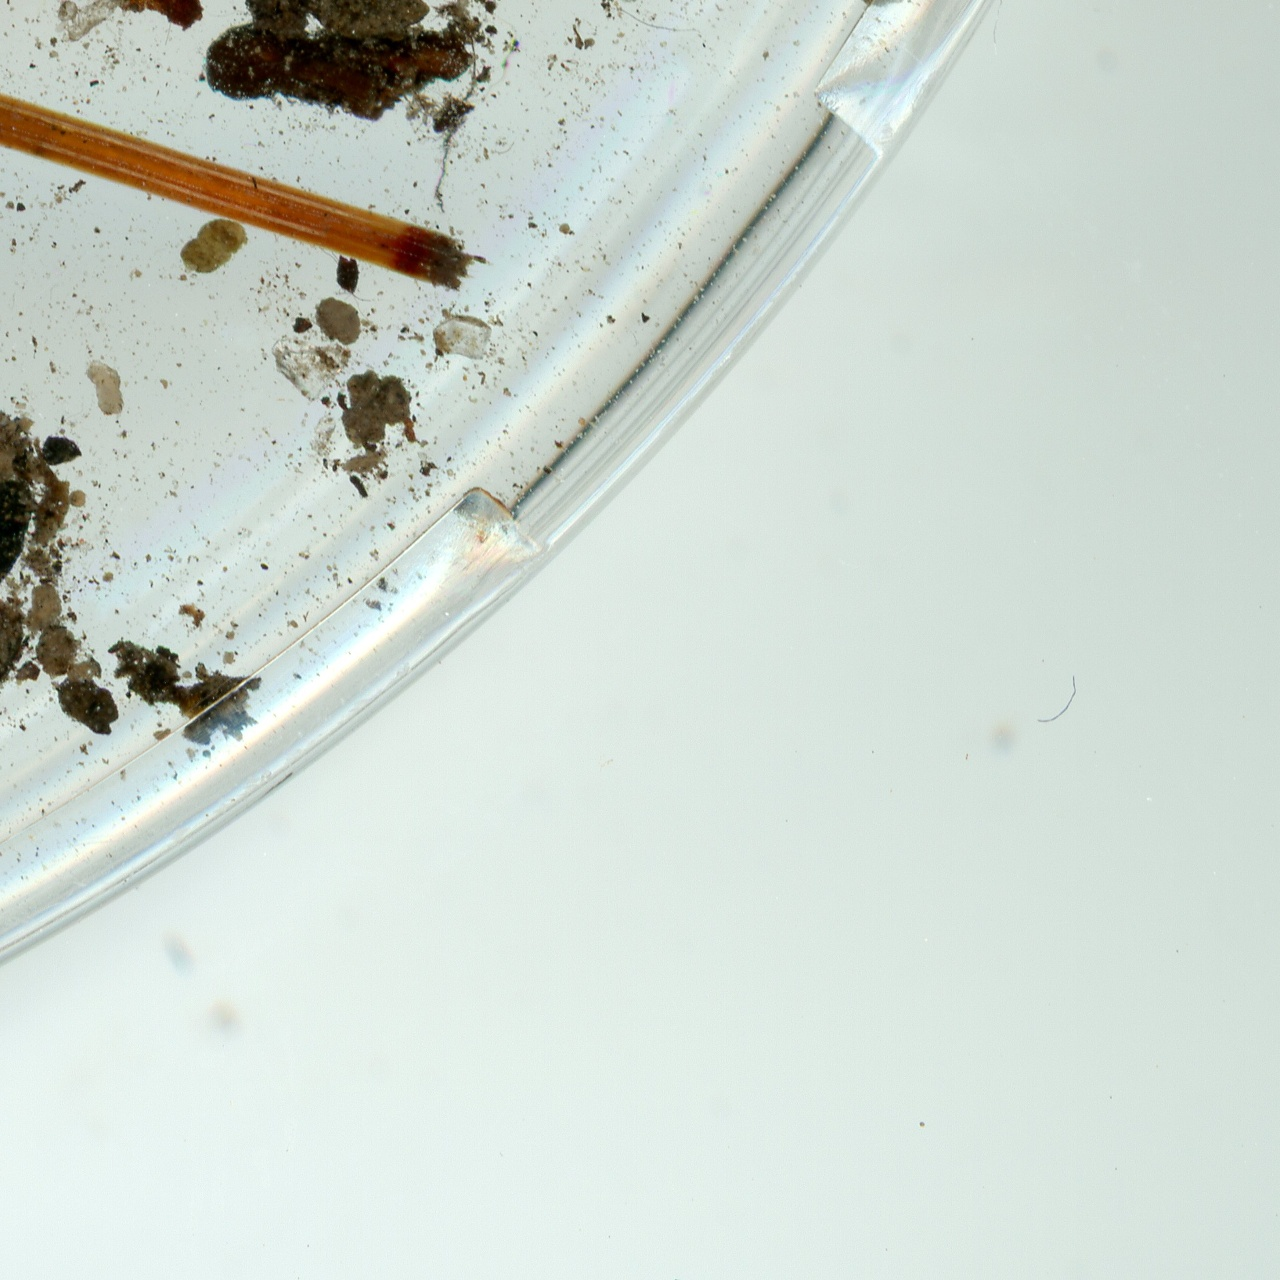arthropod: (862, 0, 911, 7)
